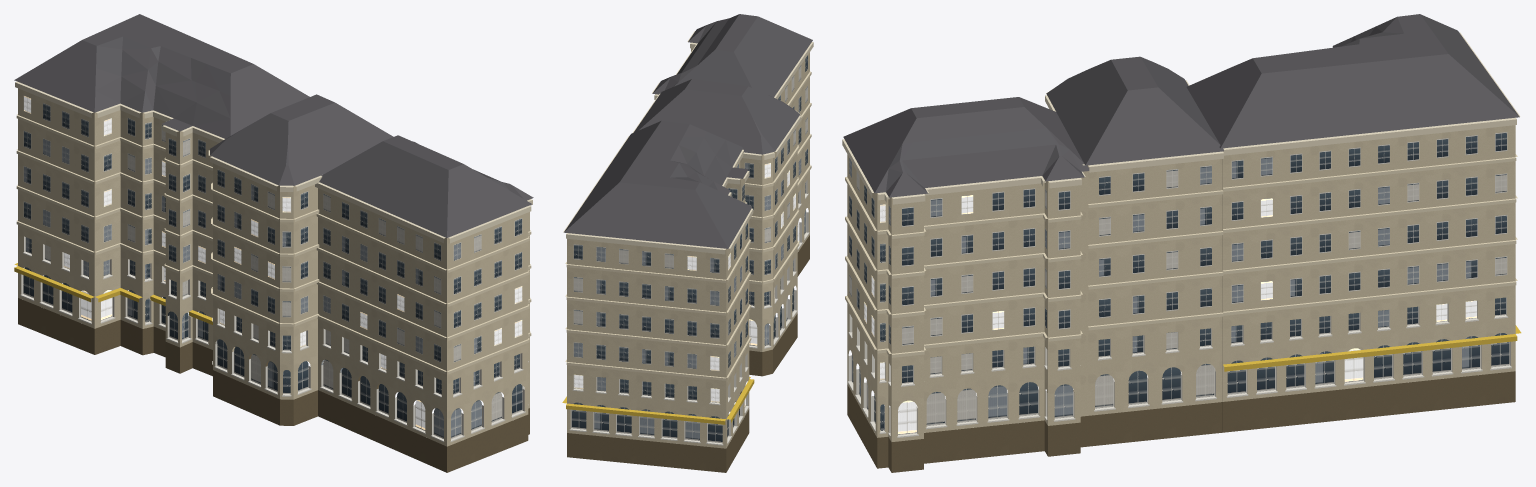
The model's file is z3a_stf_west.glb.
3 views of the same model, side by side, from view 1: azimuth 30°, elevation 25°; view 2: azimuth 150°, elevation 25°; view 3: azimuth 270°, elevation 25° (orthographic). The views are drawn at different scales.
Parts seen in each view (by area): view 1: z3a_stf_west; view 2: z3a_stf_west; view 3: z3a_stf_west.
Boxes of the visible parts, x1,y1,x2,y2 form: z3a_stf_west: (14,14,533,472); z3a_stf_west: (562,14,813,472); z3a_stf_west: (842,14,1521,472).
Bounding box in the file's own units: 33.35 × 32.38 × 60.04.
Materials: 3 (3 with a texture image).
